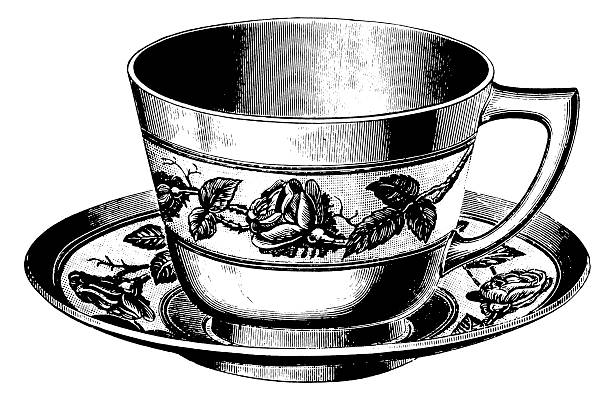cup: (22, 4, 568, 366)
